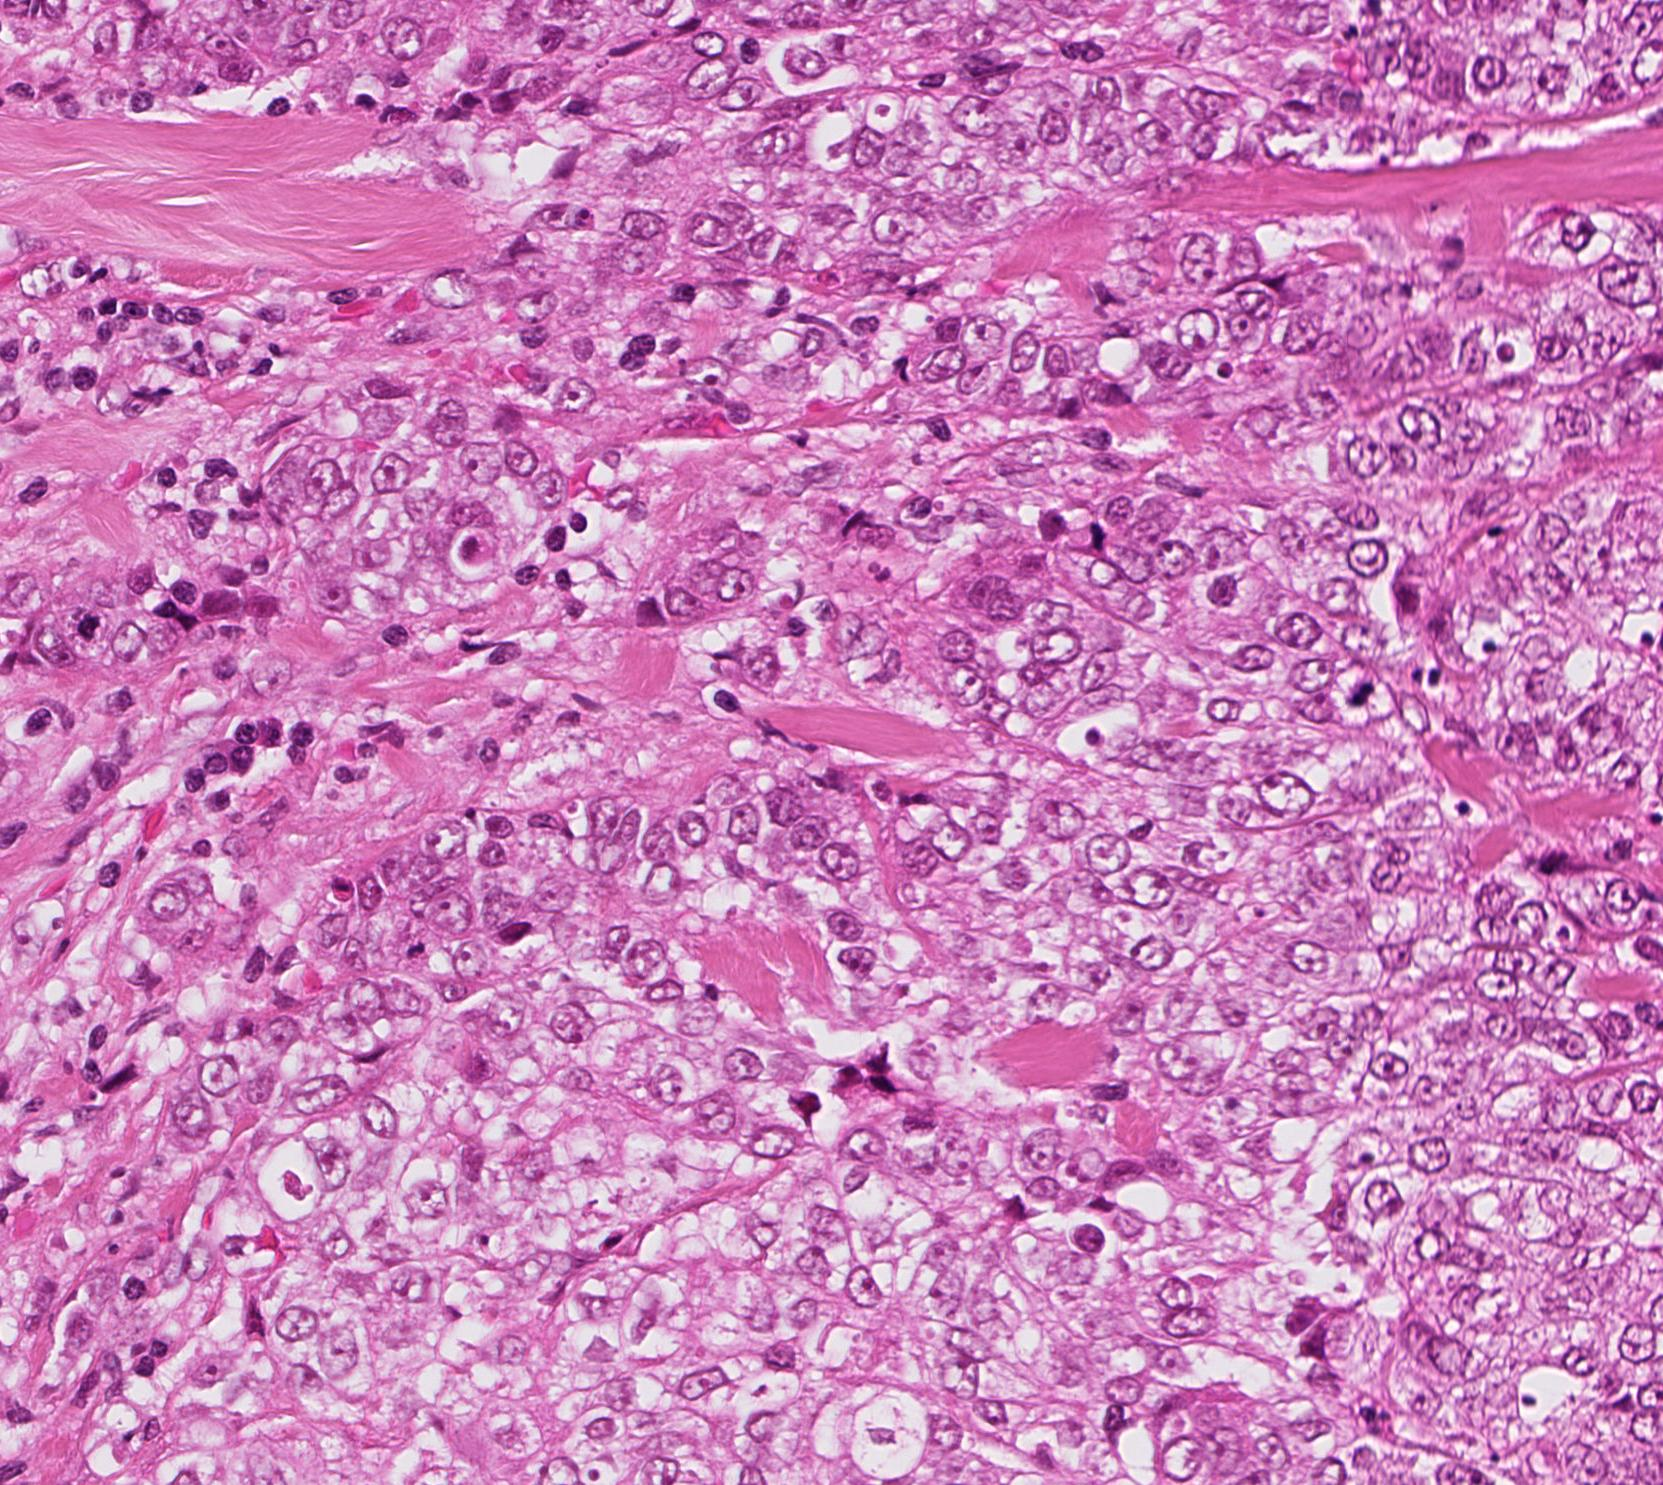mitosis: (1328, 656, 1388, 717)
